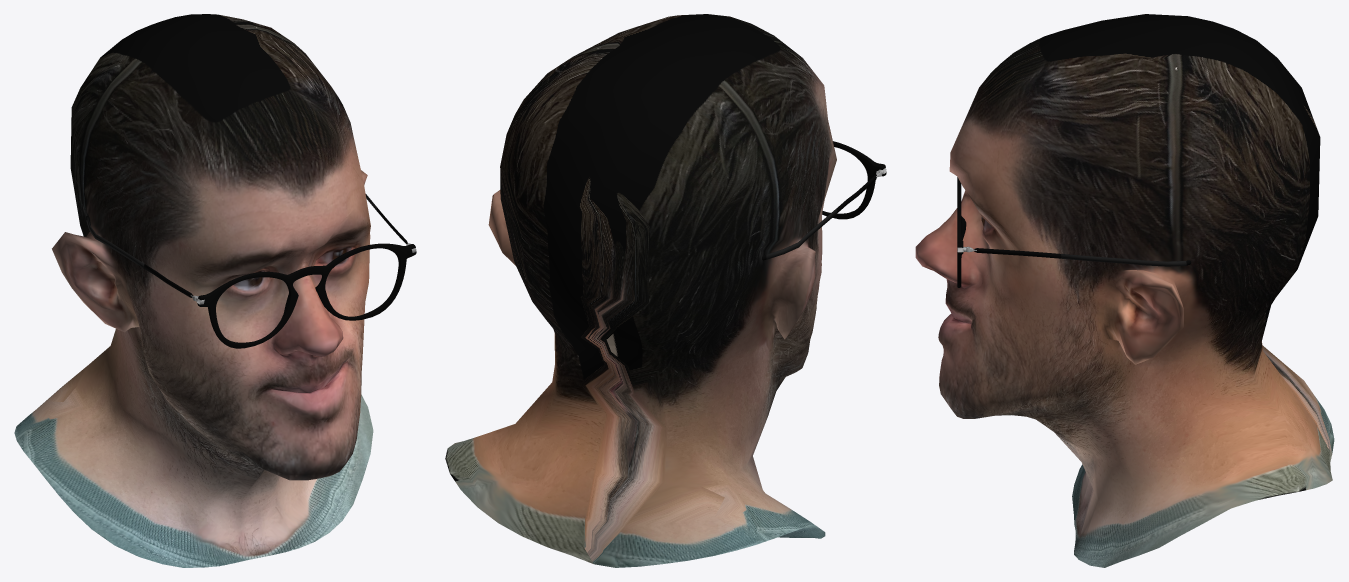
The picture shows the model from 3 angles, left to right: view 1: azimuth 30°, elevation 25°; view 2: azimuth 150°, elevation 25°; view 3: azimuth 270°, elevation 25°; orthographic projection. The views are drawn at different scales.
Visible parts, largest first — view 1: FBHead, BezierCurve; view 2: FBHead, BezierCurve; view 3: FBHead, BezierCurve.
Part boxes in pixels (x1=…): FBHead: x1=14, y1=14, x2=373, y2=567; BezierCurve: x1=86, y1=194, x2=416, y2=348; FBHead: x1=445, y1=14, x2=836, y2=567; BezierCurve: x1=762, y1=141, x2=886, y2=260; FBHead: x1=915, y1=14, x2=1334, y2=567; BezierCurve: x1=957, y1=177, x2=1191, y2=287.
Bounding box in the file's own units: 1.57 × 2.31 × 1.75.
Materials: 4 (1 with a texture image).
